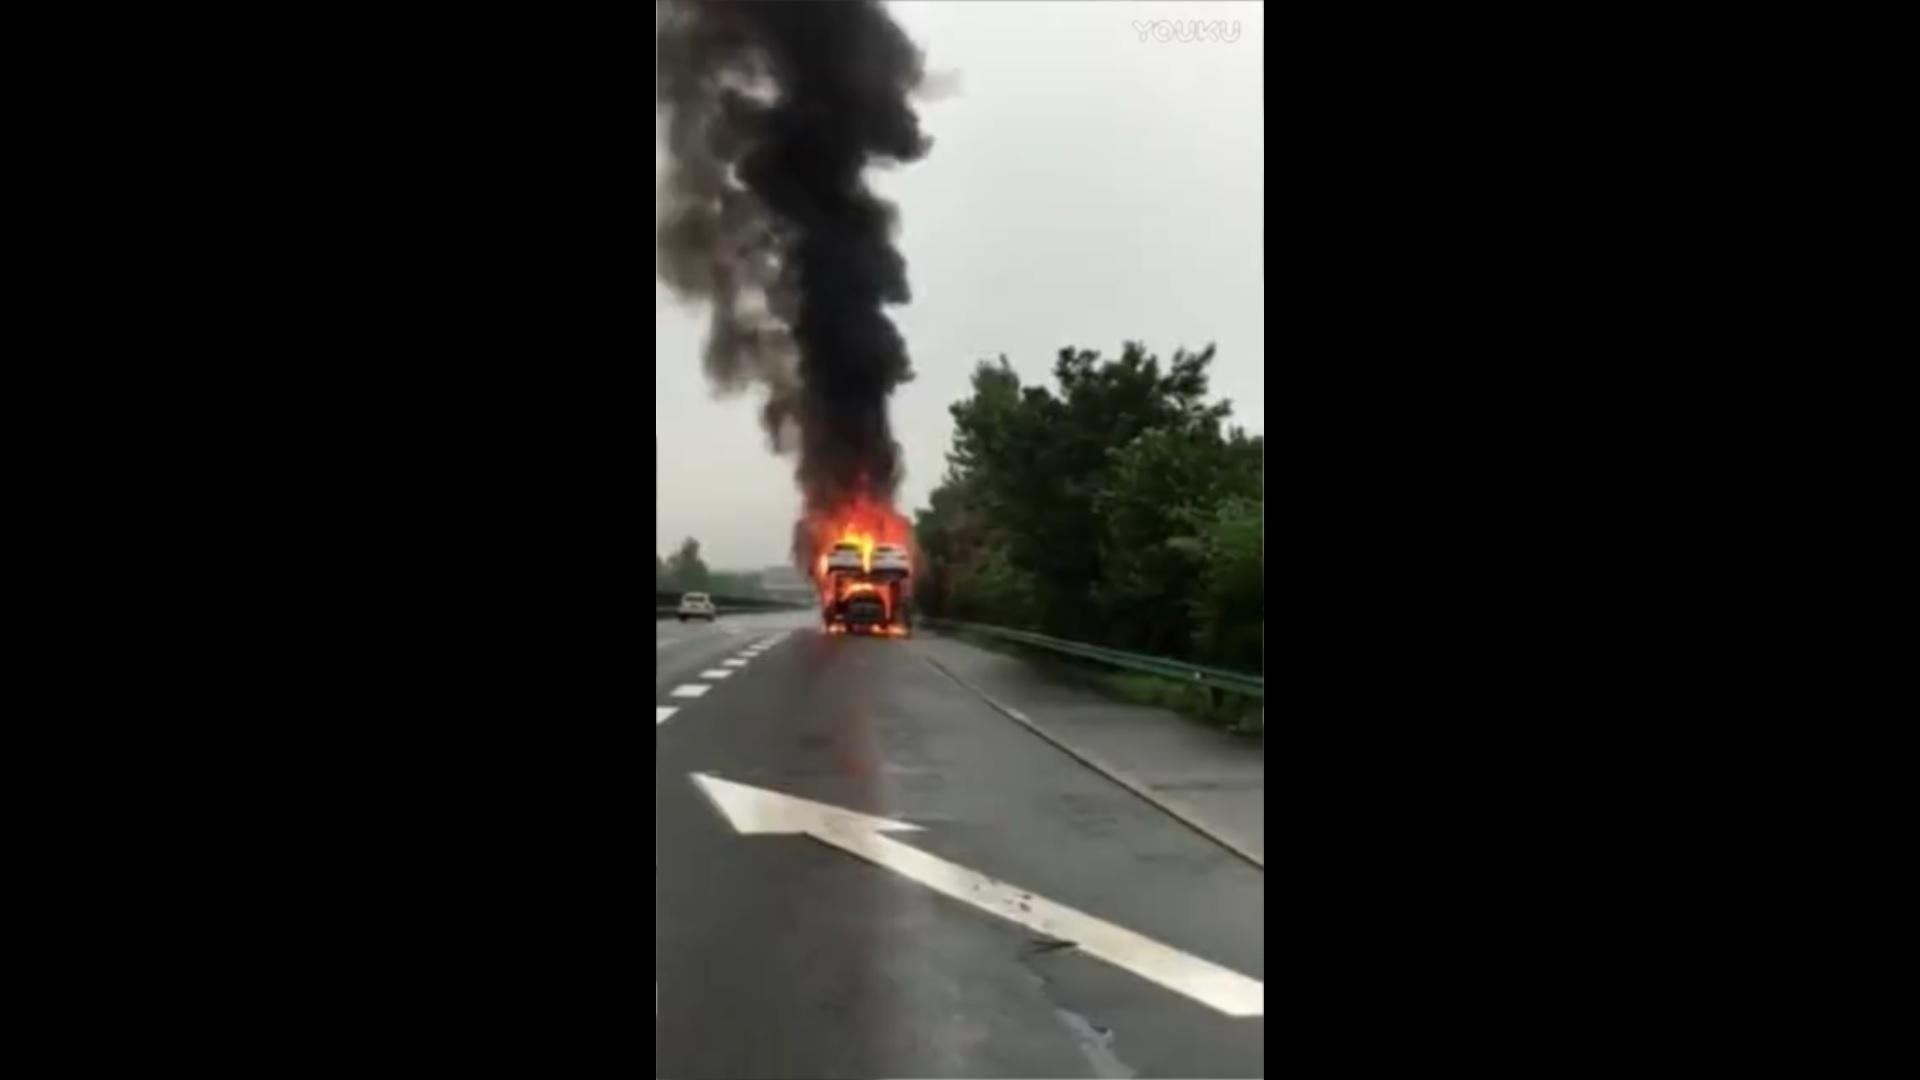fire: (808, 512, 913, 640)
